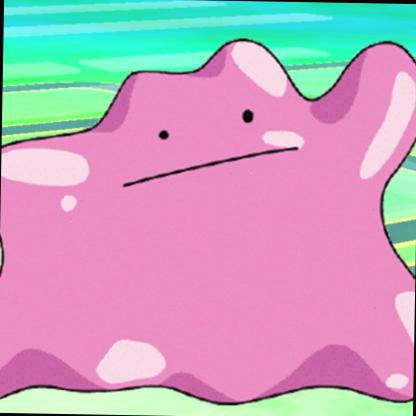Ditto: (0, 45, 413, 415)
